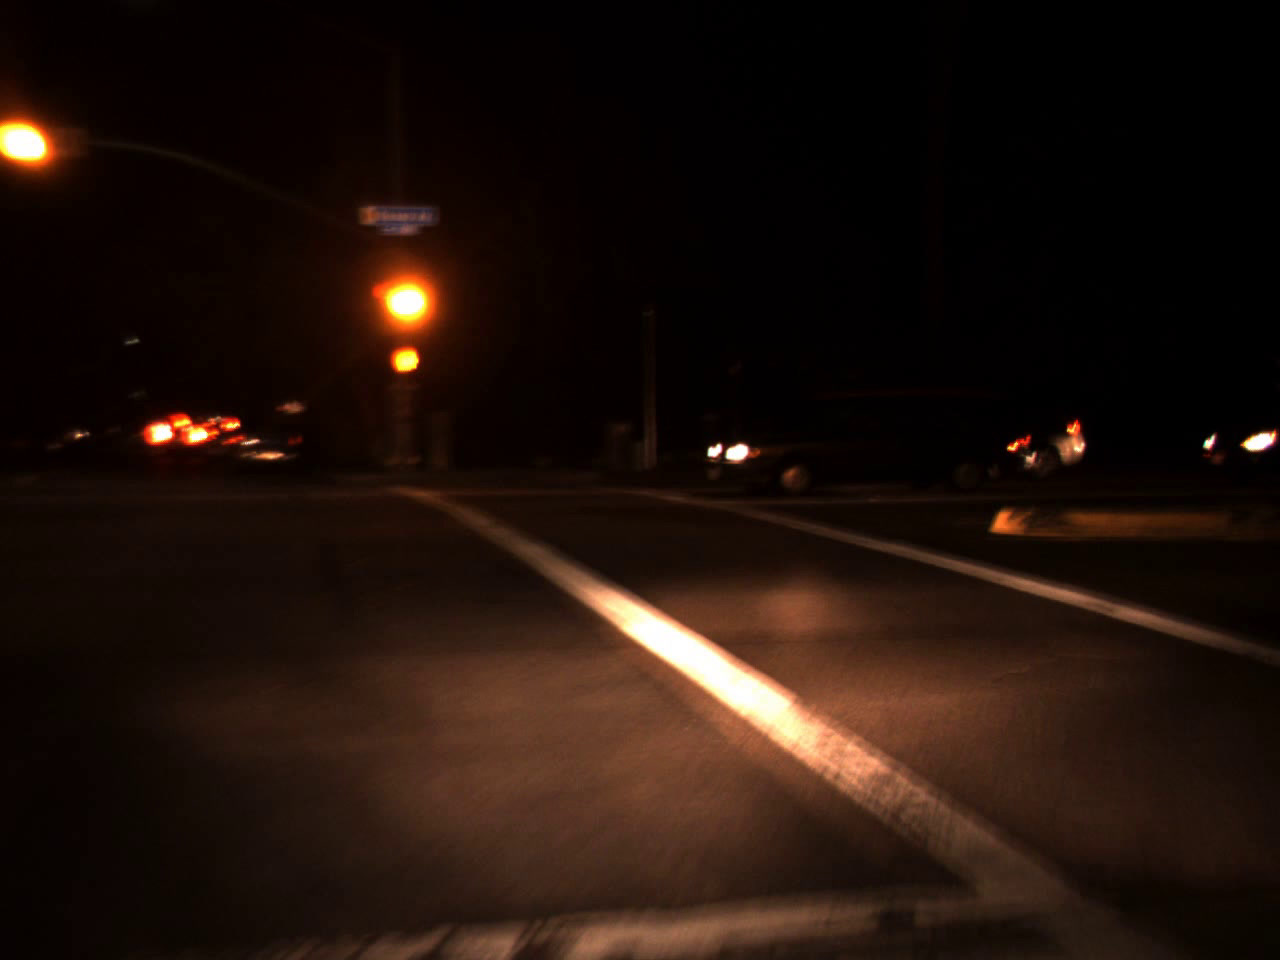warning: (1, 110, 43, 172), (385, 272, 428, 329)
